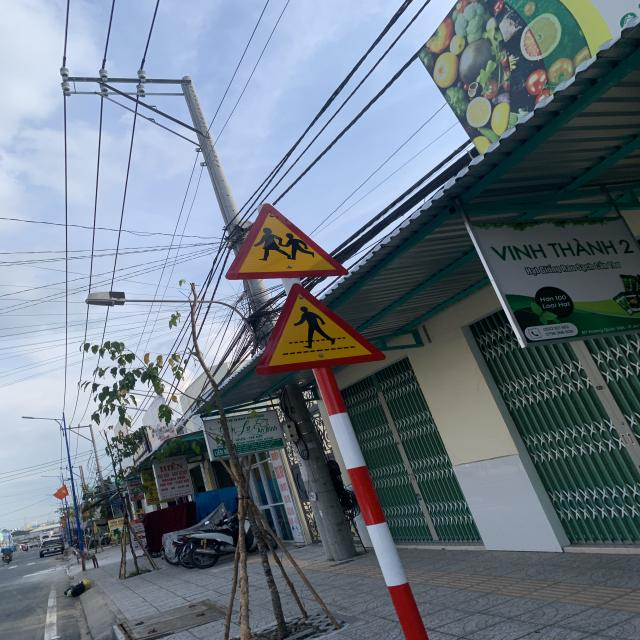Duong_Nguoi_Di_Bo_Sang_Ngang: (255, 282, 387, 375)
Vong_Xuyen: (225, 202, 348, 280)
